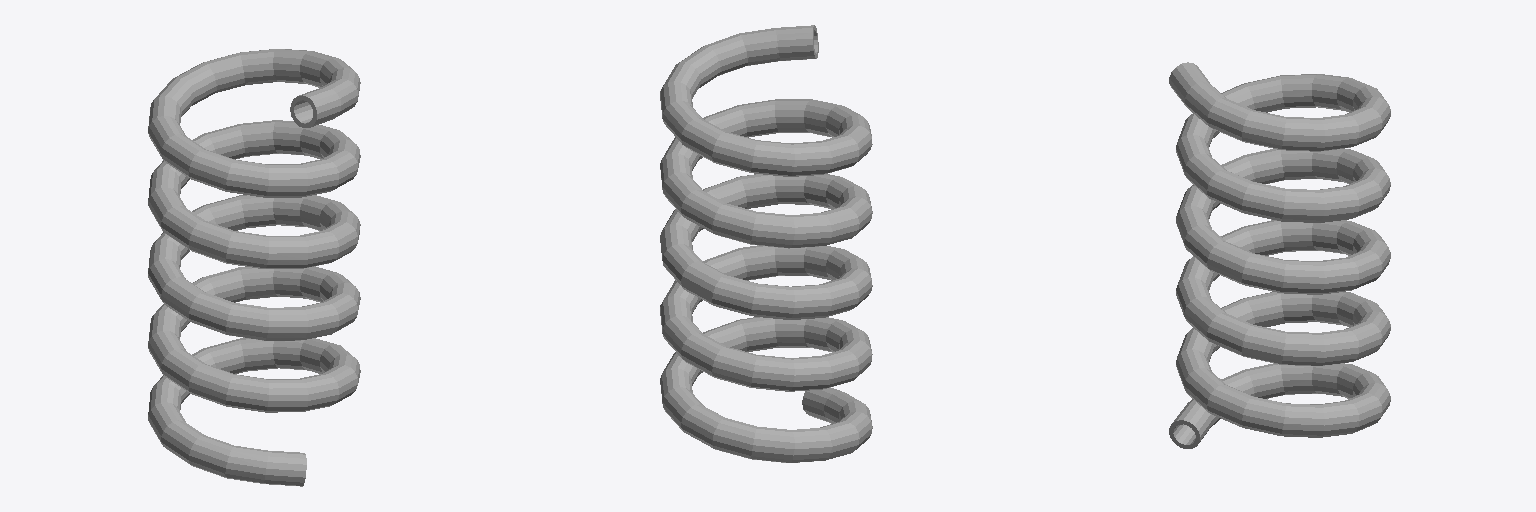
The model's file is spring.obj.
3 renders of one model, left to right at view 1: azimuth 30°, elevation 25°; view 2: azimuth 150°, elevation 25°; view 3: azimuth 270°, elevation 25°, orthographic.
Parts seen in each view (by area): view 1: Spring-mesh_Mesh.002; view 2: Spring-mesh_Mesh.002; view 3: Spring-mesh_Mesh.002.
Boxes of the visible parts, box(x1,y1,x2,y2) form: Spring-mesh_Mesh.002: box(148, 49, 360, 486); Spring-mesh_Mesh.002: box(660, 25, 872, 462); Spring-mesh_Mesh.002: box(1169, 62, 1390, 448).
Size of the model in its own units: 5.45 by 10.85 by 5.62.